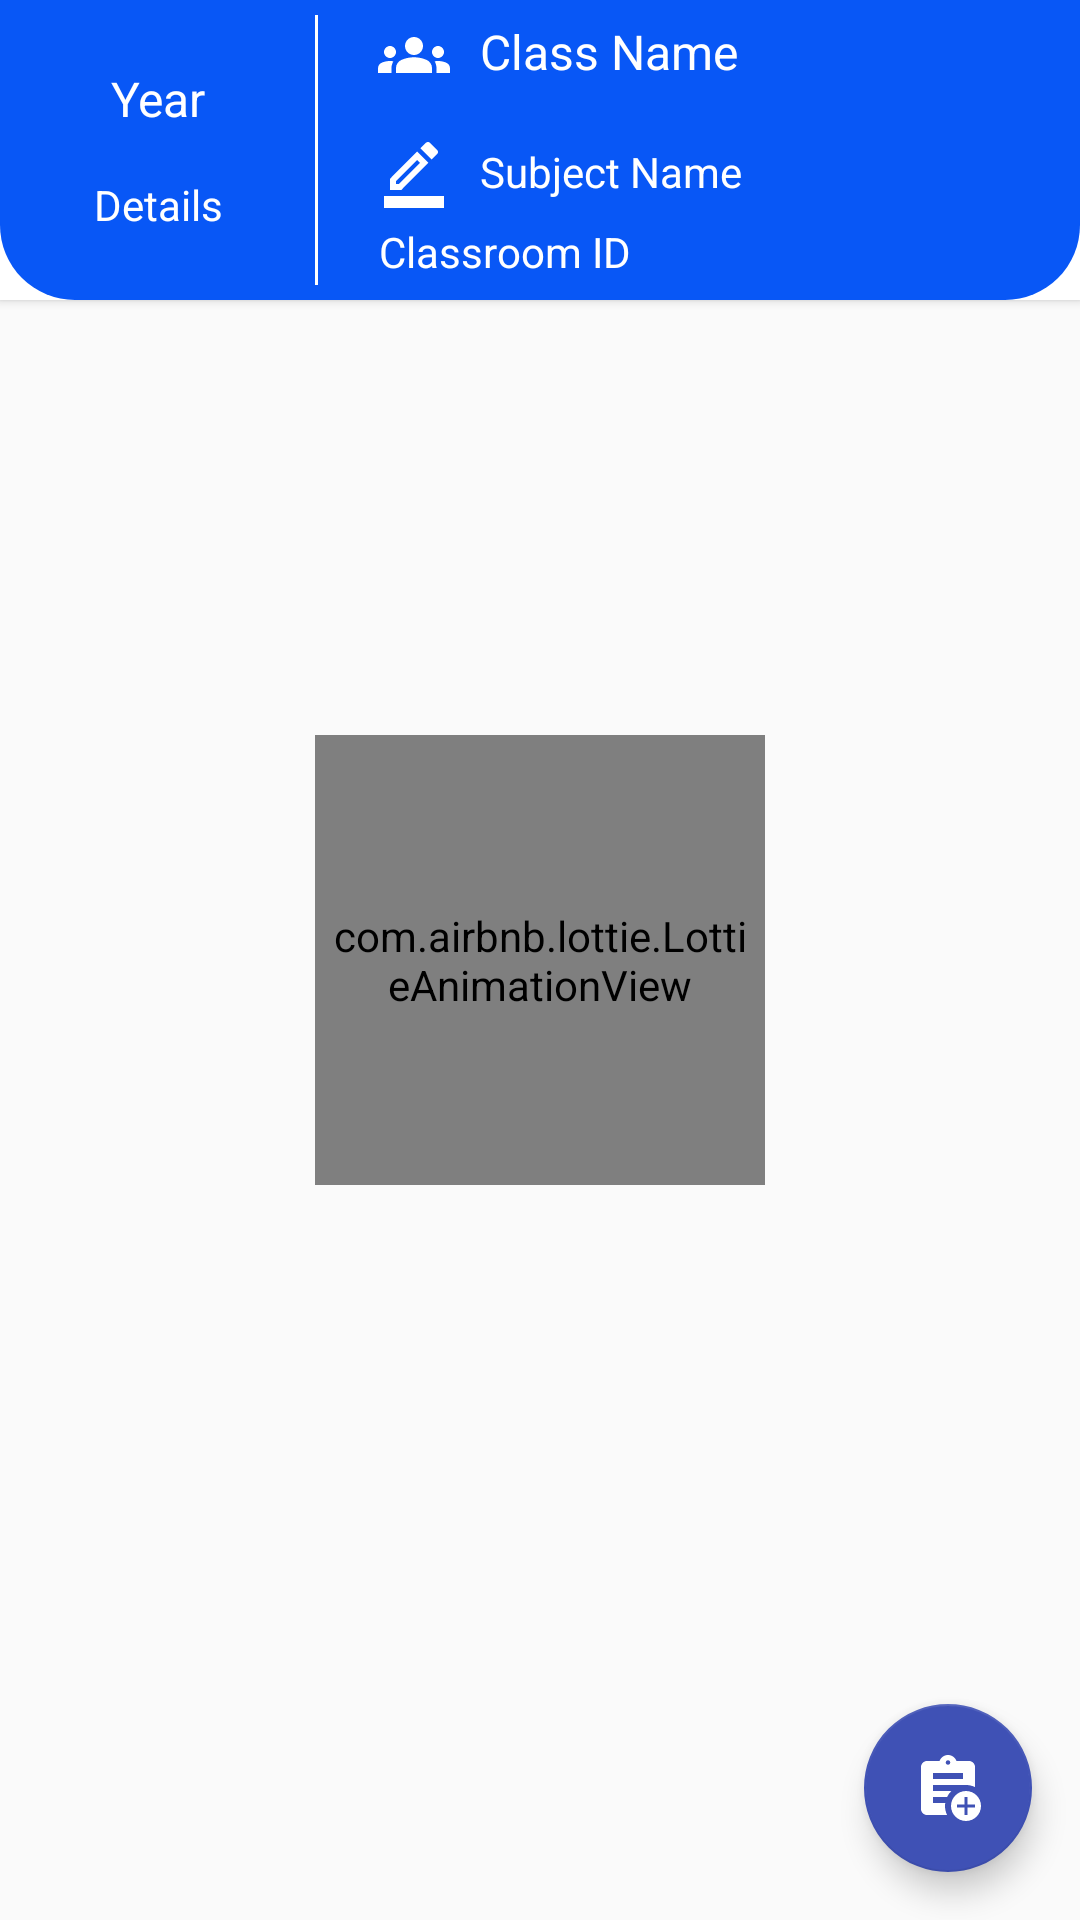

Icon bounding boxes for this 1080*1920 phone screenshot, format detection(x1, y1, x2, y2):
Add Assignment: detection(864, 1704, 1032, 1872)
